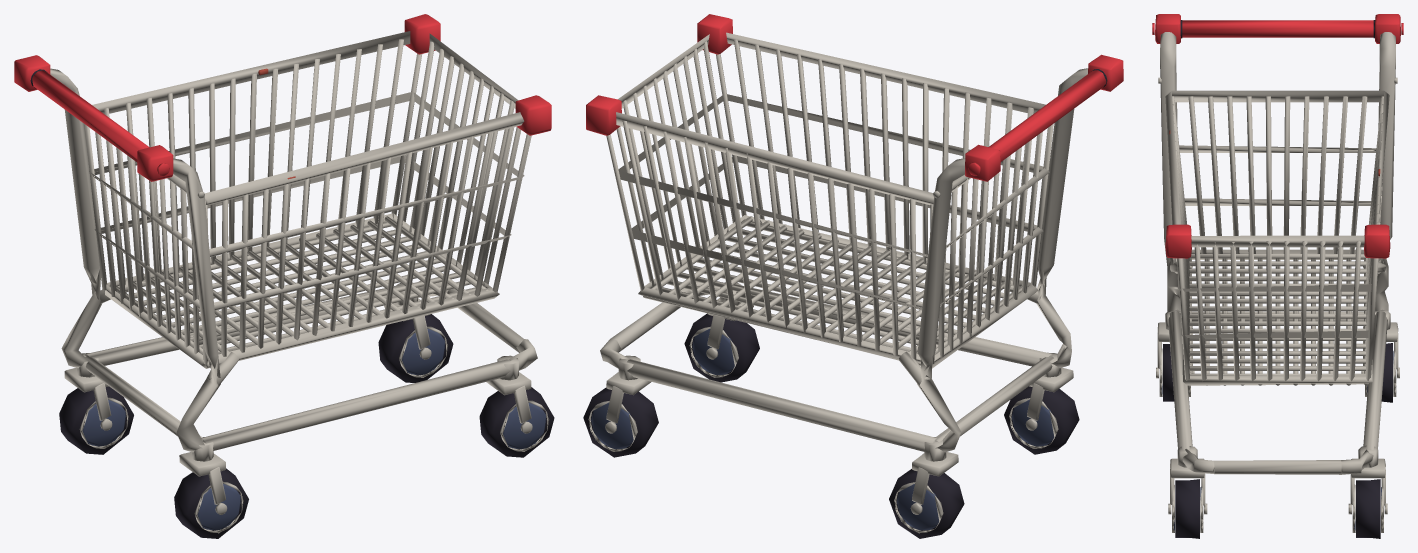
3 renders of one model, left to right at view 1: azimuth 30°, elevation 25°; view 2: azimuth 150°, elevation 25°; view 3: azimuth 270°, elevation 25°, orthographic. The views are drawn at different scales.
Visible parts, largest first — view 1: body, object 4, wheelFR, wheelFL; view 2: body, object 4, wheelFL, wheelFR; view 3: body, object 4, wheelFR, wheelFL.
Part boxes in pixels (box(x1,y1,x2,y2)): body: box(50, 31, 537, 452); object 4: box(14, 14, 551, 538); wheelFR: box(479, 387, 554, 457); wheelFL: box(378, 314, 453, 382); body: box(600, 32, 1088, 452); object 4: box(586, 14, 1123, 538); wheelFL: box(583, 387, 658, 457); wheelFR: box(684, 313, 759, 382); body: box(1158, 32, 1397, 474); object 4: box(1152, 14, 1403, 505); wheelFR: box(1168, 479, 1207, 538); wheelFL: box(1348, 479, 1387, 538).
Size of the model in its own units: 1.21 by 1.11 by 0.71.
